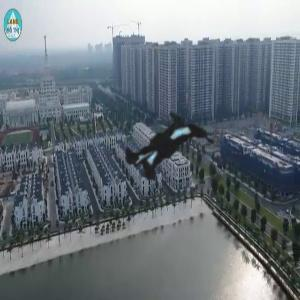drone: (39, 24, 289, 274)
